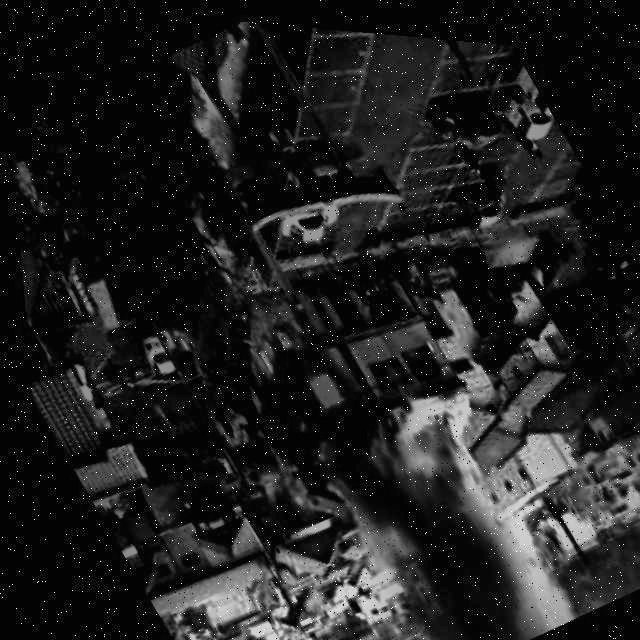Fire: (210, 285, 387, 490), (353, 325, 436, 398)
Smoke: (314, 378, 564, 640)
